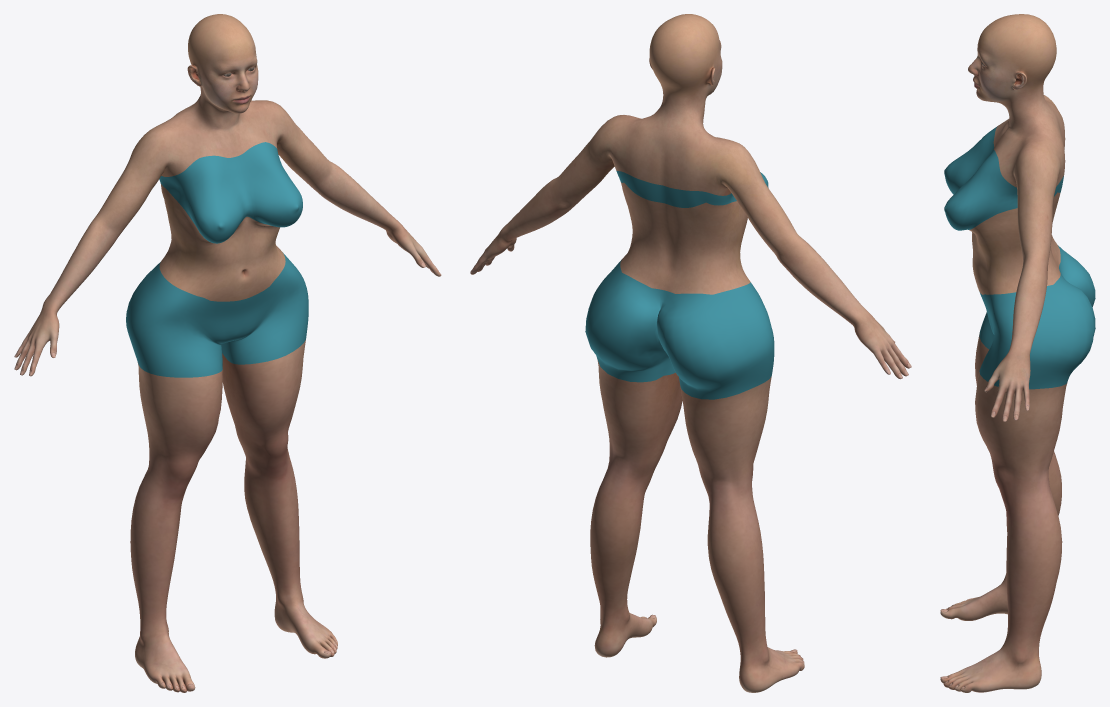
File: vitruvian_voluptuous.glb
The picture shows the model from 3 angles, left to right: view 1: azimuth 30°, elevation 25°; view 2: azimuth 150°, elevation 25°; view 3: azimuth 270°, elevation 25°; orthographic projection. The views are drawn at different scales.
Parts seen in each view (by area): view 1: body; view 2: body; view 3: body.
Boxes of the visible parts, box(x1,y1,x2,y2) form: body: box(14, 14, 441, 692); body: box(470, 14, 911, 692); body: box(940, 14, 1095, 692).
Bounding box in the file's own units: 1.21 × 1.74 × 0.3854.
6 materials, 4 textured.
